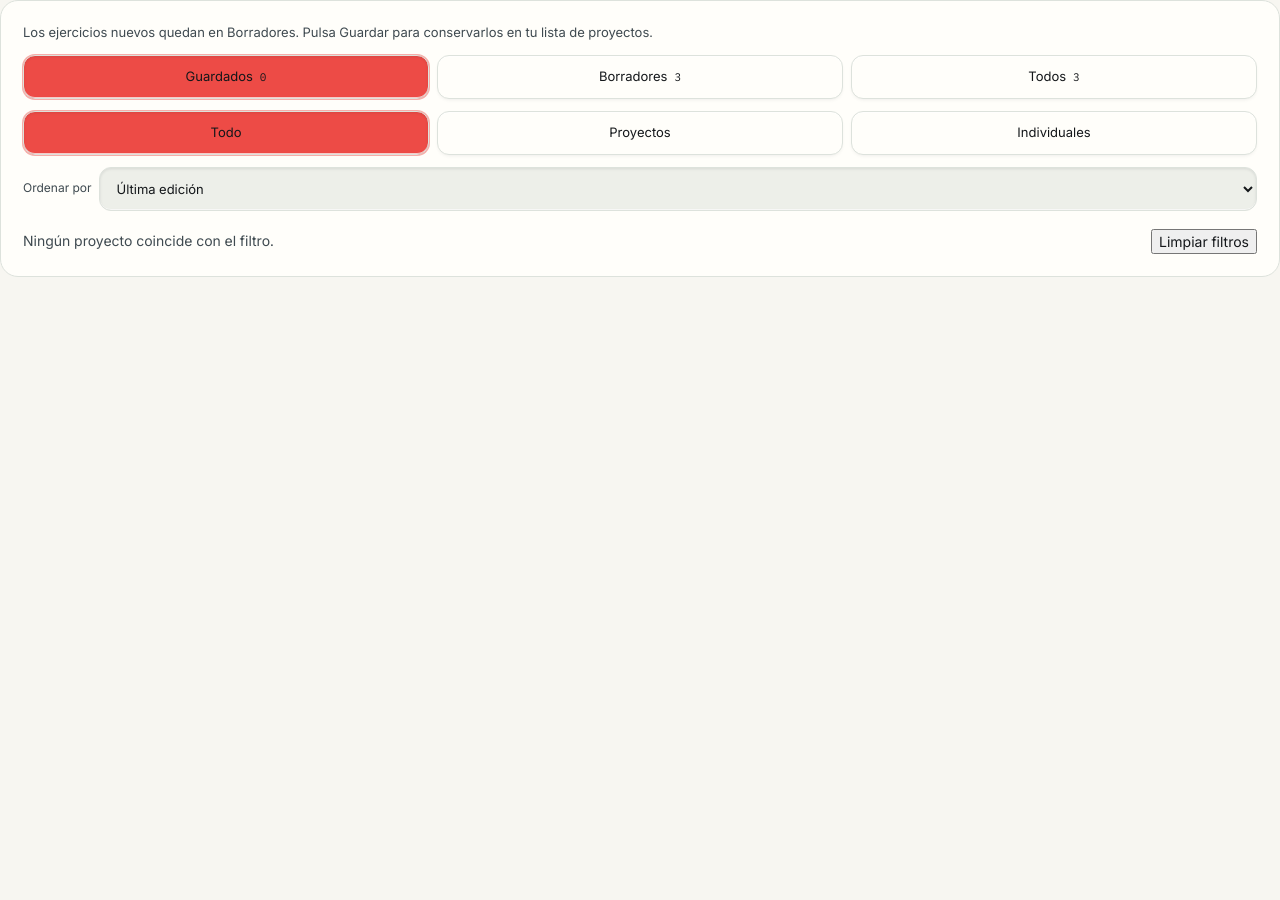
Test: lets the user keep a chosen draft and delete the other selected drafts with one confirmation
Click the button "Borradores 3" at point(640, 76), box x1=437 y1=54 x2=843 y2=98
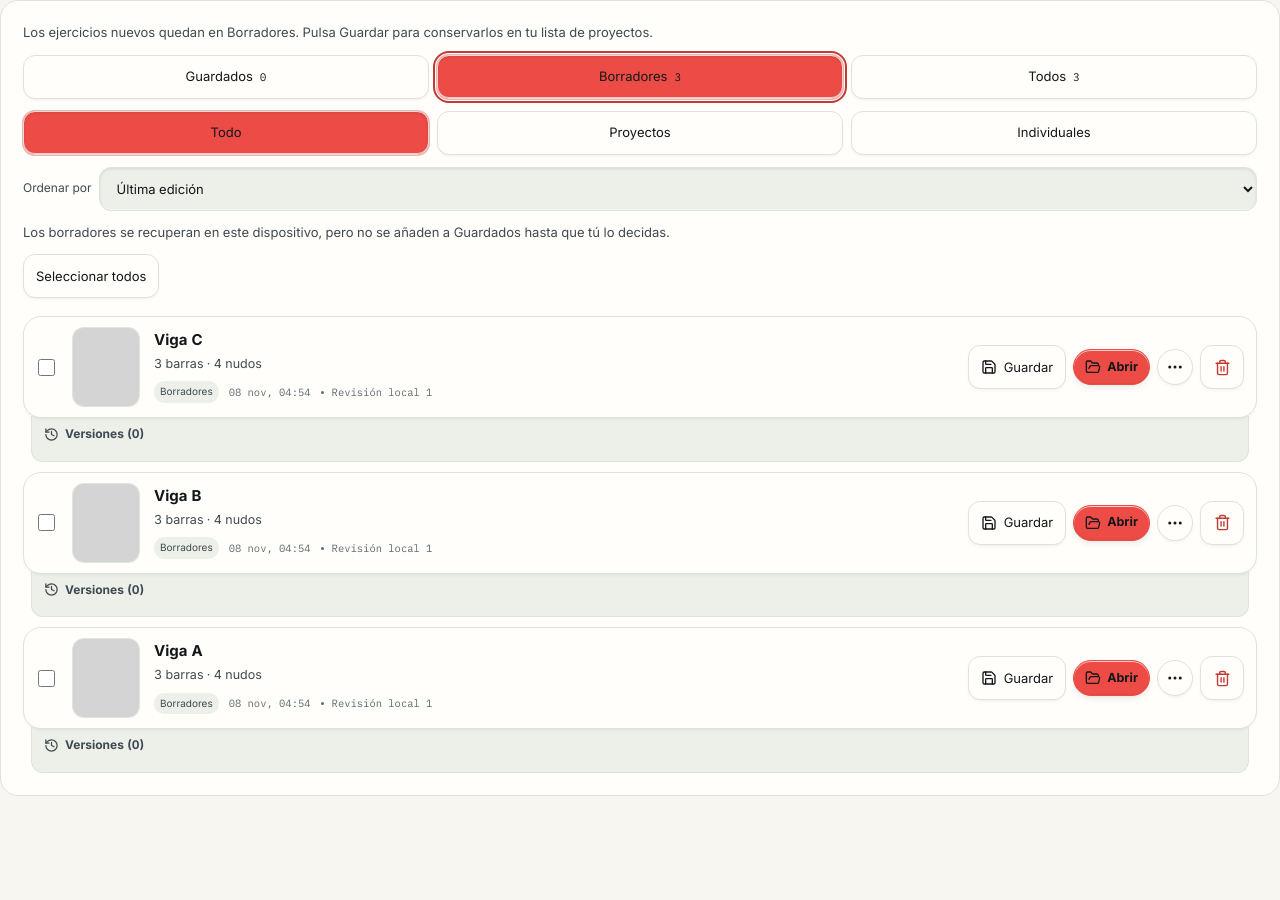
Click the button with aria-label "Guardar Viga A" at point(1017, 678), box x1=968 y1=656 x2=1066 y2=700
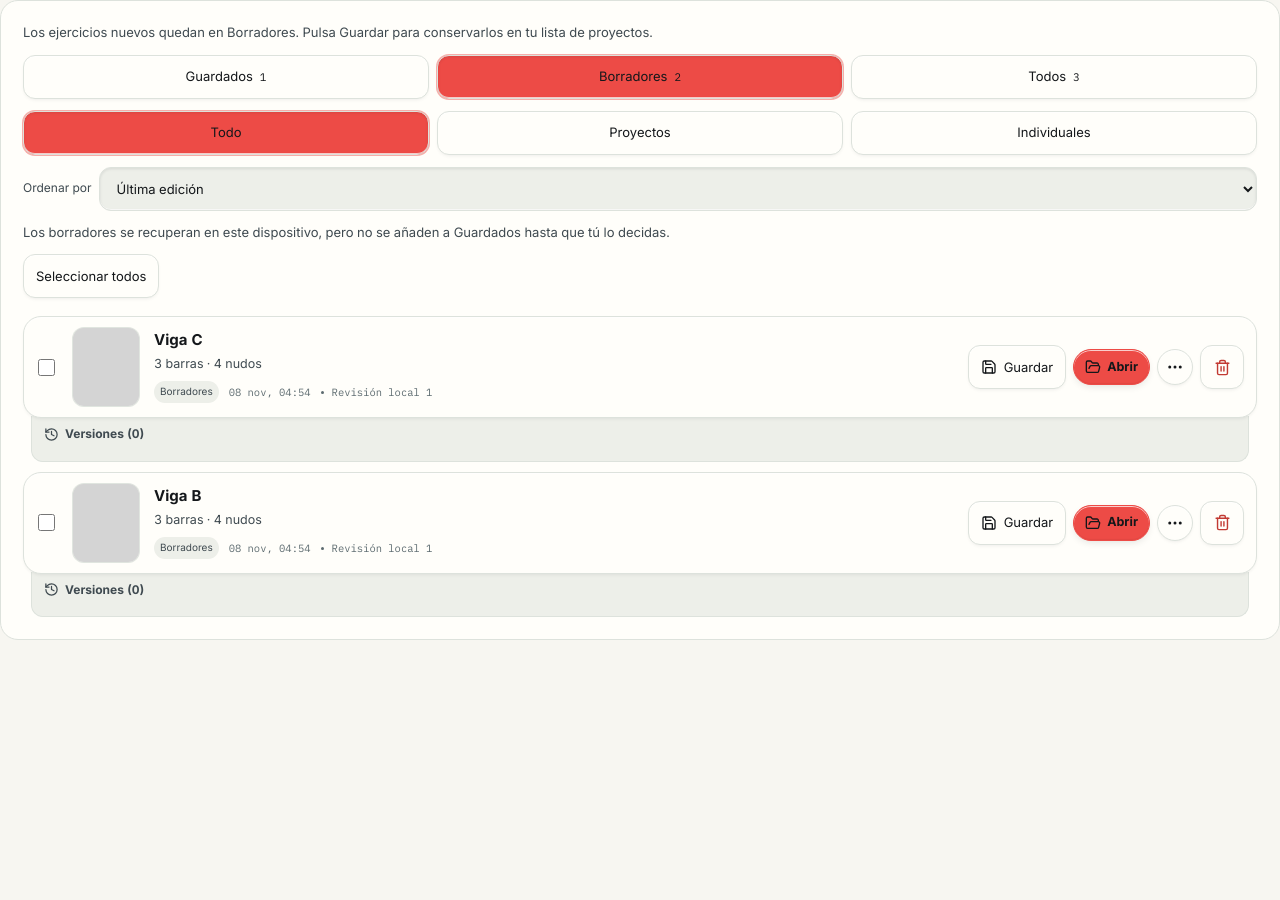
Click the checkbox named "Seleccionar Viga B" at point(46, 523), box x1=38 y1=513 x2=55 y2=532
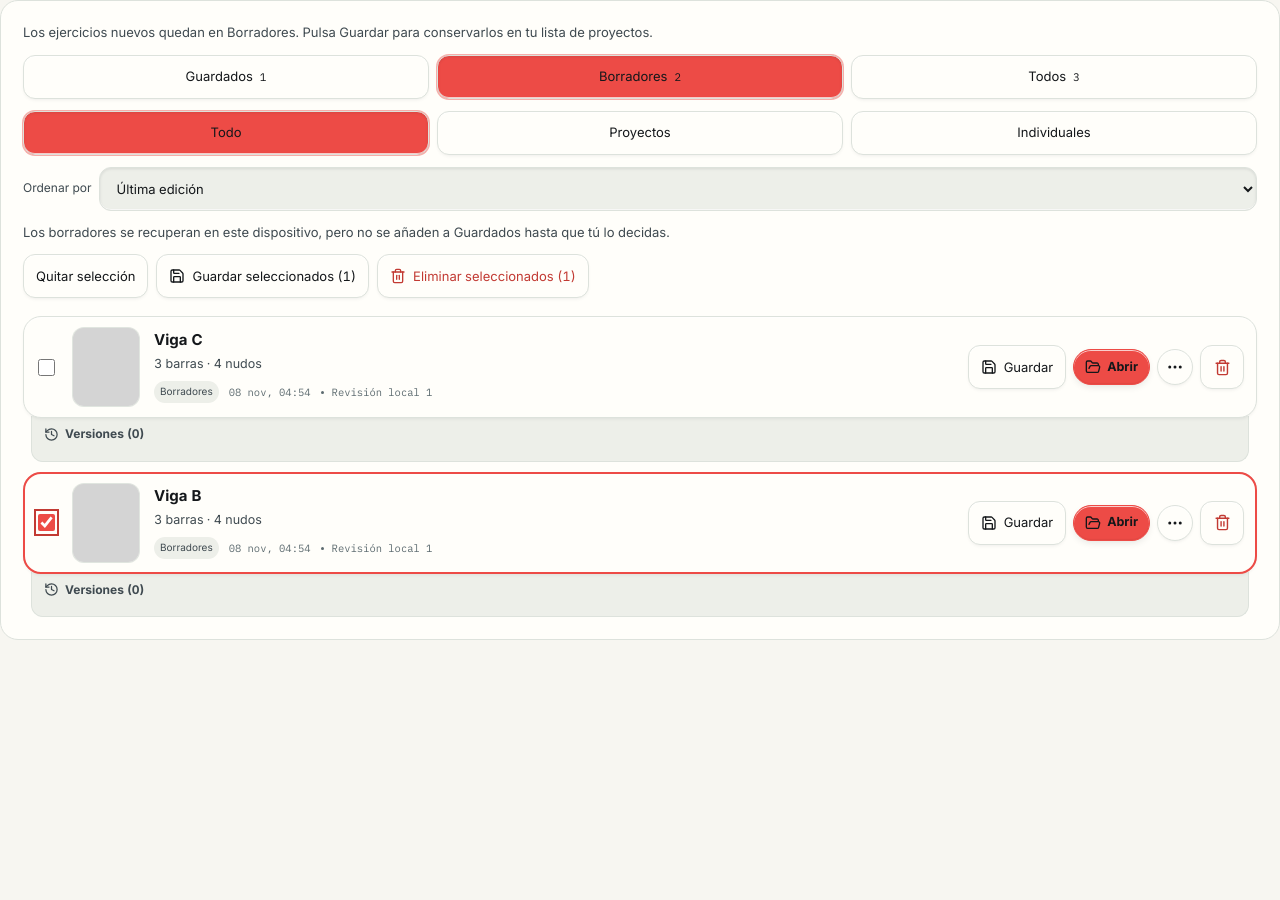
Click the checkbox named "Seleccionar Viga C" at point(46, 367), box x1=38 y1=358 x2=55 y2=376
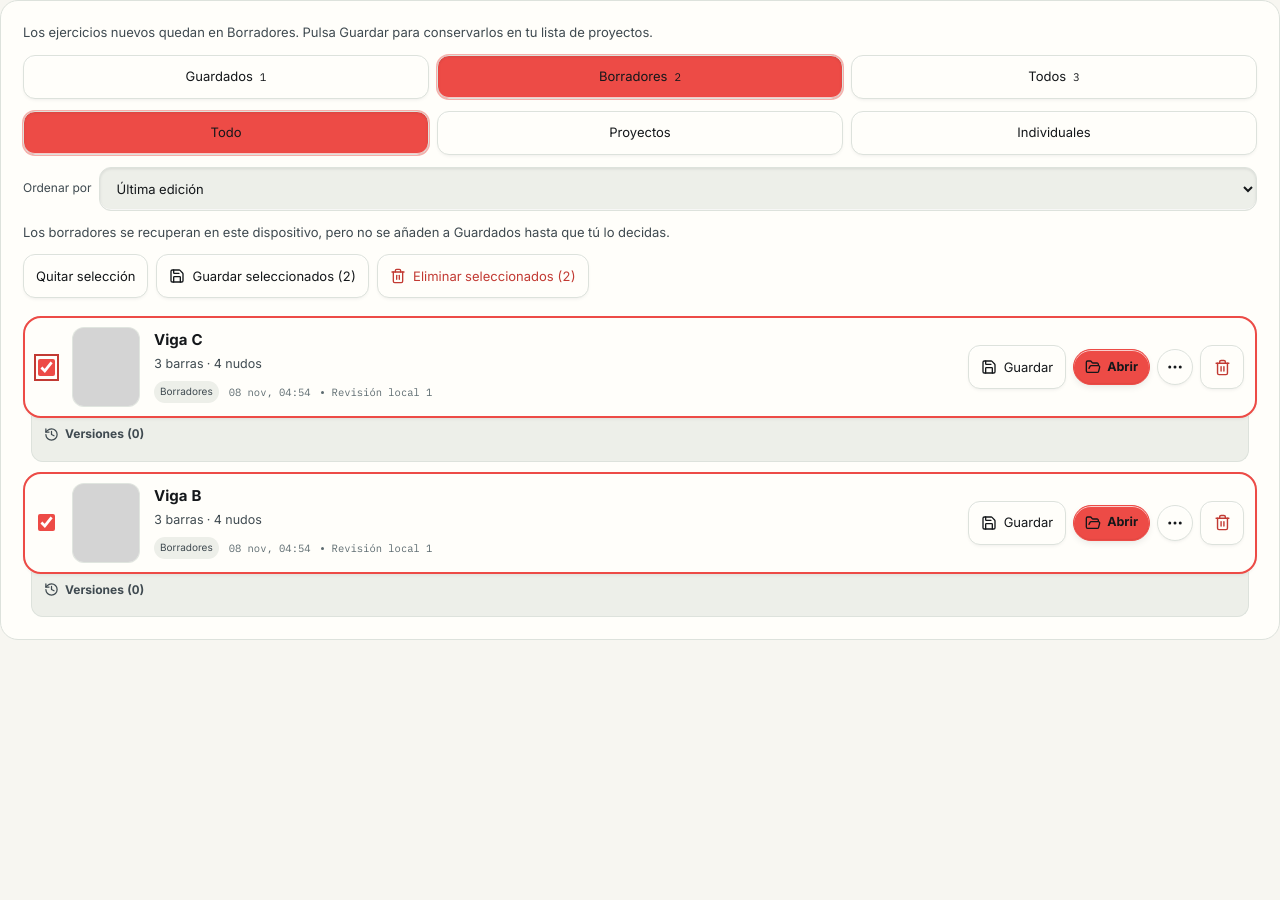
Click the button "Eliminar seleccionados (2)" at point(483, 276), box x1=377 y1=254 x2=589 y2=298
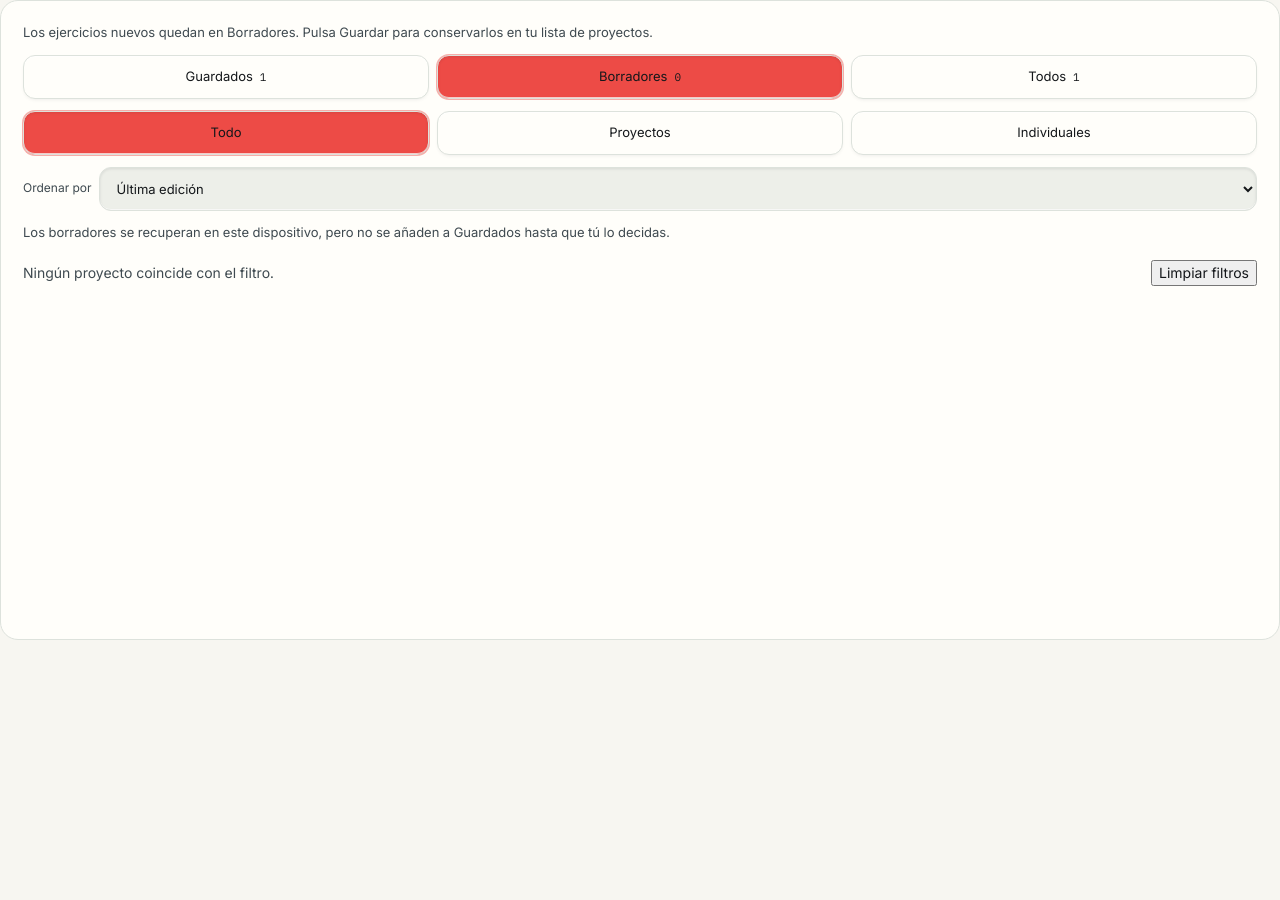
Click the button "Guardados 1" at point(226, 76), box x1=23 y1=54 x2=429 y2=98
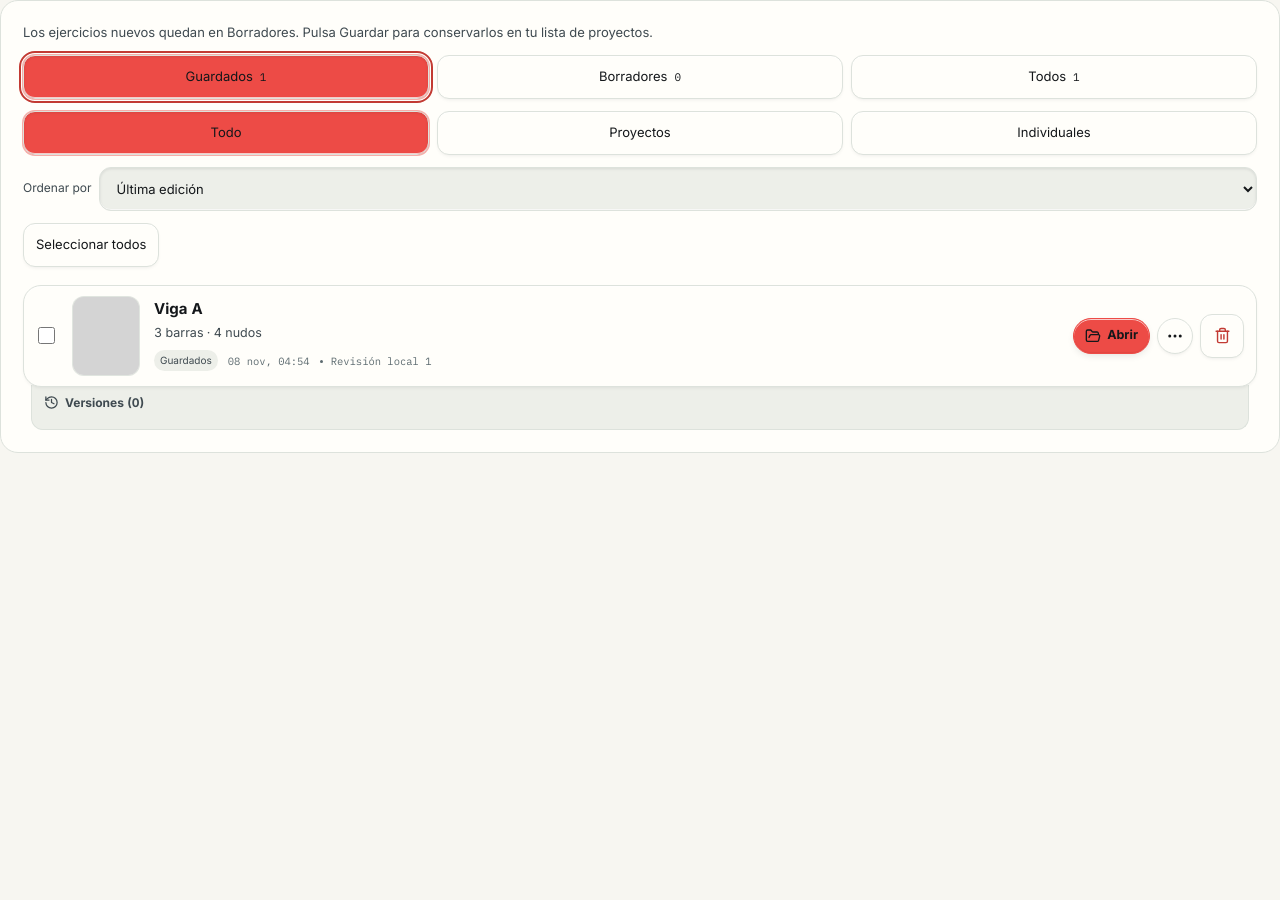
Result: the text "Viga A" is shown at x1=154 y1=299 x2=203 y2=318
